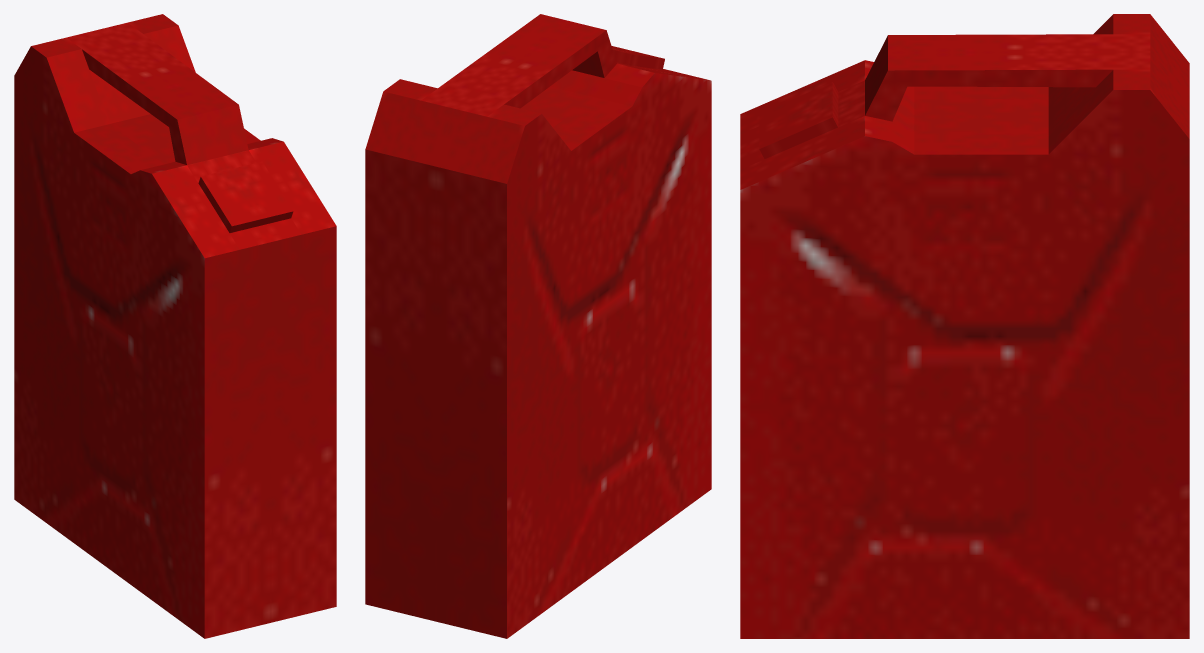
Rendered from jerrycan.fbx.
3 renders of one model, left to right at view 1: azimuth 30°, elevation 25°; view 2: azimuth 150°, elevation 25°; view 3: azimuth 270°, elevation 25°, orthographic. The views are drawn at different scales.
Parts seen in each view (by area): view 1: Jerrycan; view 2: Jerrycan; view 3: Jerrycan.
Part boxes in pixels (x1,y1,x2,y2): Jerrycan: (14,14,336,638); Jerrycan: (365,14,711,638); Jerrycan: (740,14,1189,638).
Bounding box in the file's own units: 13.6 × 45.85 × 34.
Materials: 1 (1 with a texture image).
